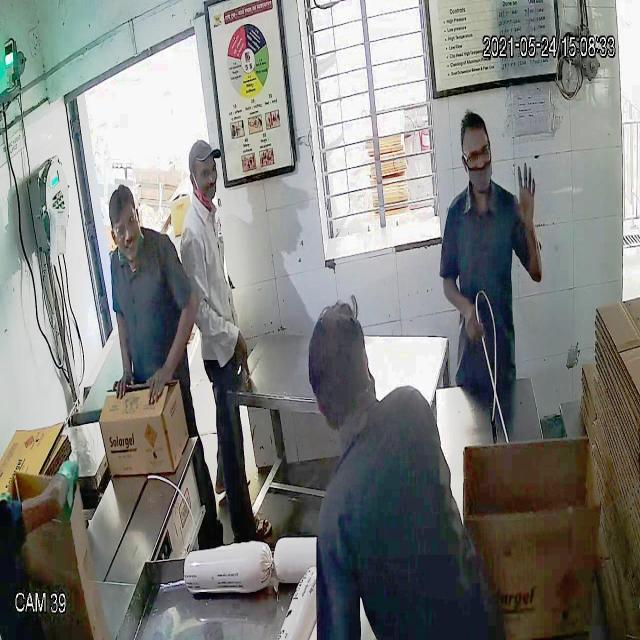glasses: (459, 140, 493, 172), (108, 213, 140, 239)
no-glass: (192, 160, 220, 187)
